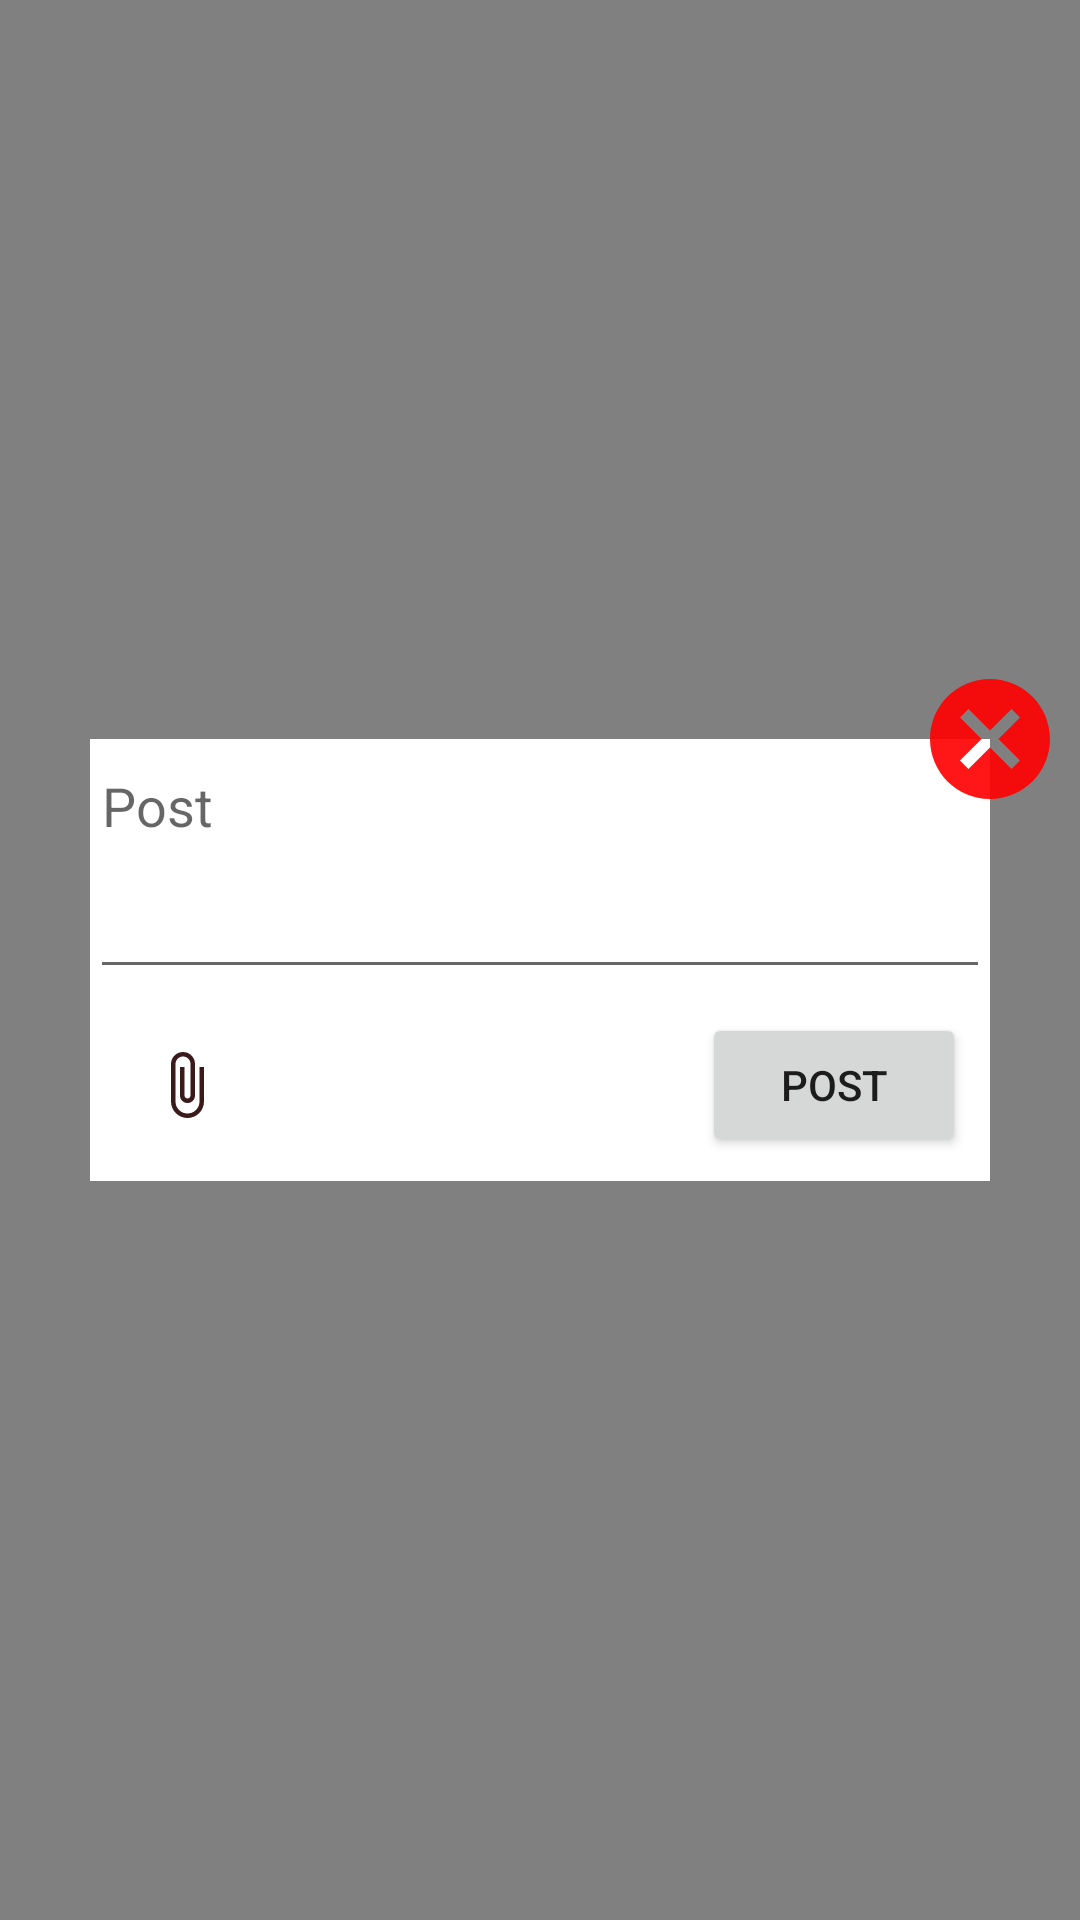

Named icons in this screenshot (1080x1920) and their centers, [x,y]:
attach: [187,1085]
cancel: [984,745]
